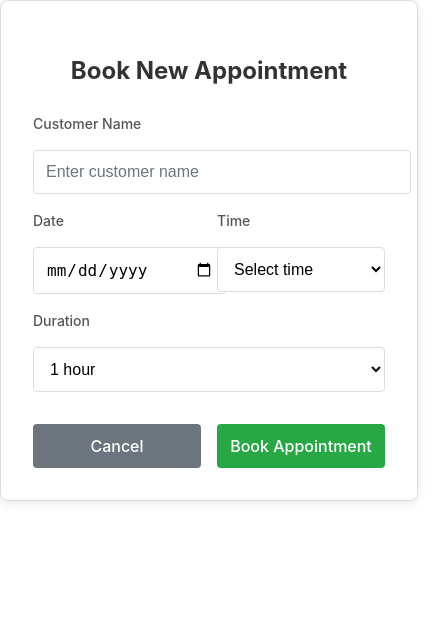
it: BookingForm › should show validation errors for empty required fields
What coordinates should you click on to do the following:
click the button "Book Appointment"
I would click on:
 (301, 446)
Its box is [217,424,385,468].
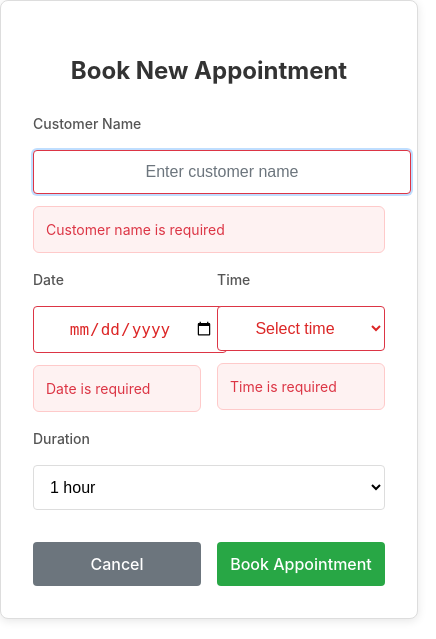
Check: the text "Customer name is required" is shown, box [33,206,385,253]
Check: the text "Date is required" is shown, box [33,365,201,412]
Check: the text "Time is required" is shown, box [217,363,385,410]
